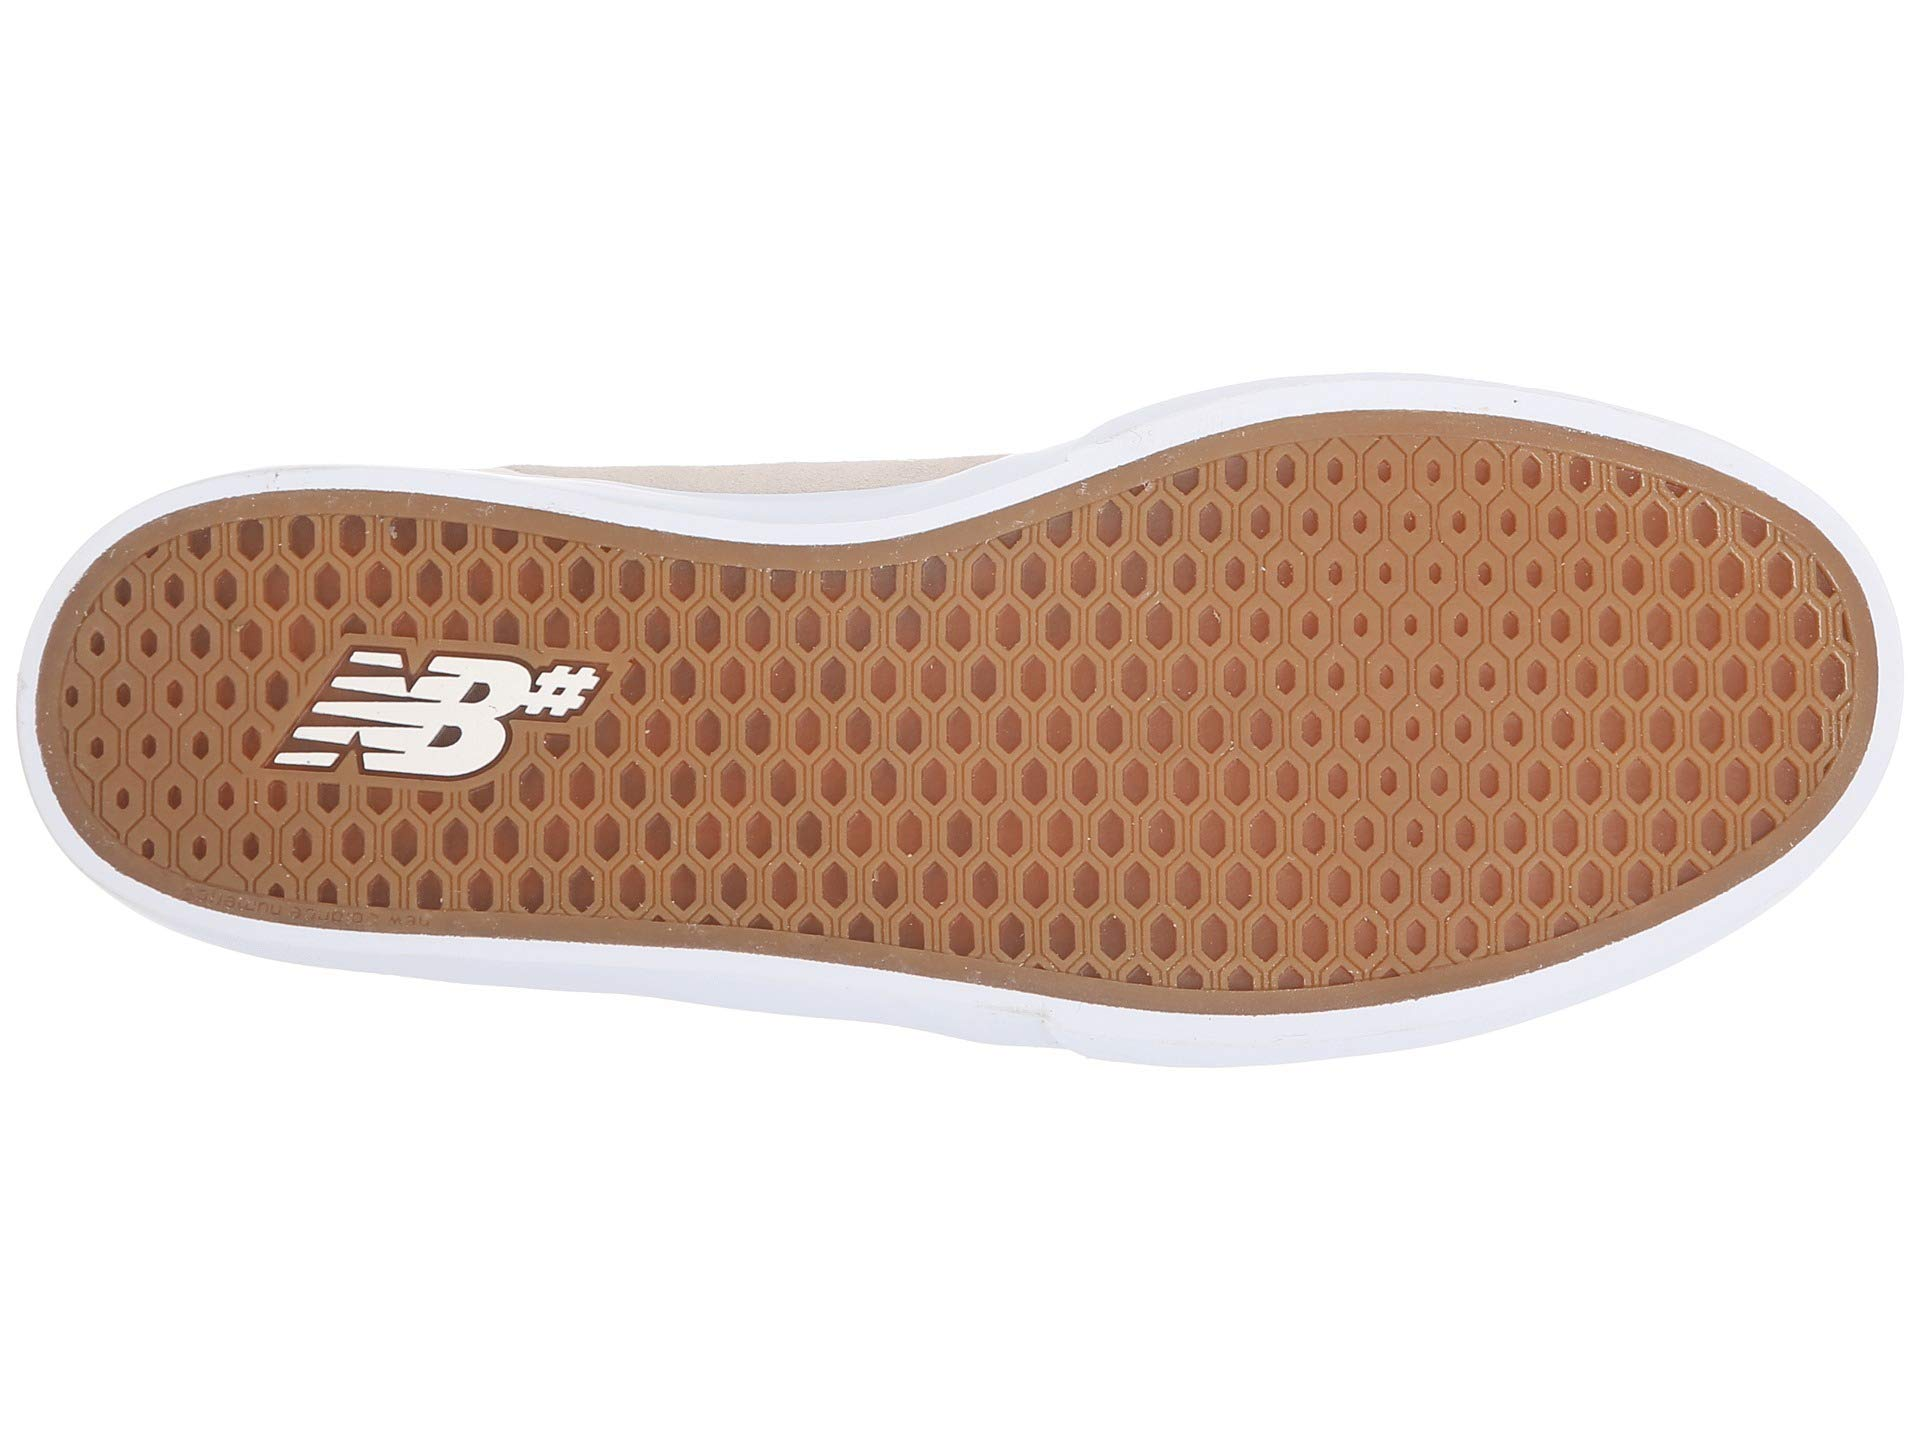line: (609, 551, 1042, 961), (1305, 451, 1524, 811)
polygon: (609, 551, 1042, 961), (1305, 451, 1524, 811)
